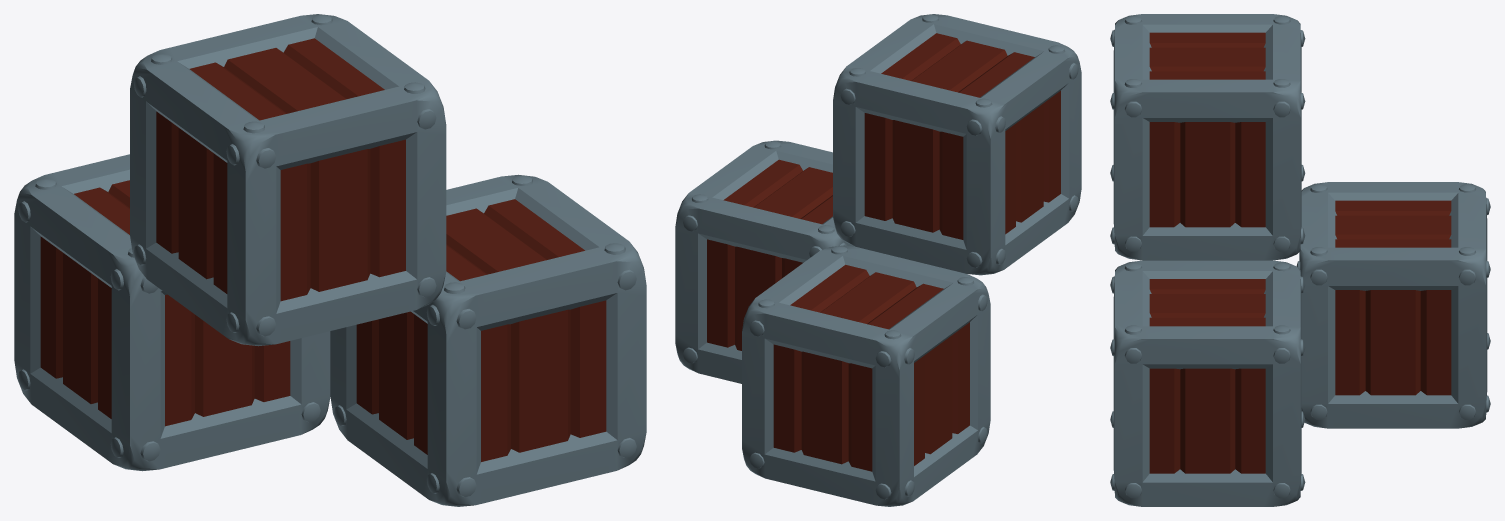
Rendered from DecoratedCrates1MODEL.fbx.
3 views of the same model, side by side, from view 1: azimuth 30°, elevation 25°; view 2: azimuth 150°, elevation 25°; view 3: azimuth 270°, elevation 25° (orthographic). The views are drawn at different scales.
Visible parts, largest first — view 1: crate, crate__1_, crate__2_; view 2: crate, crate__2_, crate__1_; view 3: crate, crate__1_, crate__2_.
Part boxes in pixels (<box>): crate: <box>130,14,446,346</box>; crate__1_: <box>330,174,646,506</box>; crate__2_: <box>14,154,330,471</box>; crate: <box>833,14,1081,275</box>; crate__2_: <box>742,245,990,506</box>; crate__1_: <box>675,140,855,383</box>; crate: <box>1110,14,1305,260</box>; crate__1_: <box>1110,260,1305,506</box>; crate__2_: <box>1296,182,1490,428</box>.
Size of the model in its own units: 205 by 205 by 205.
